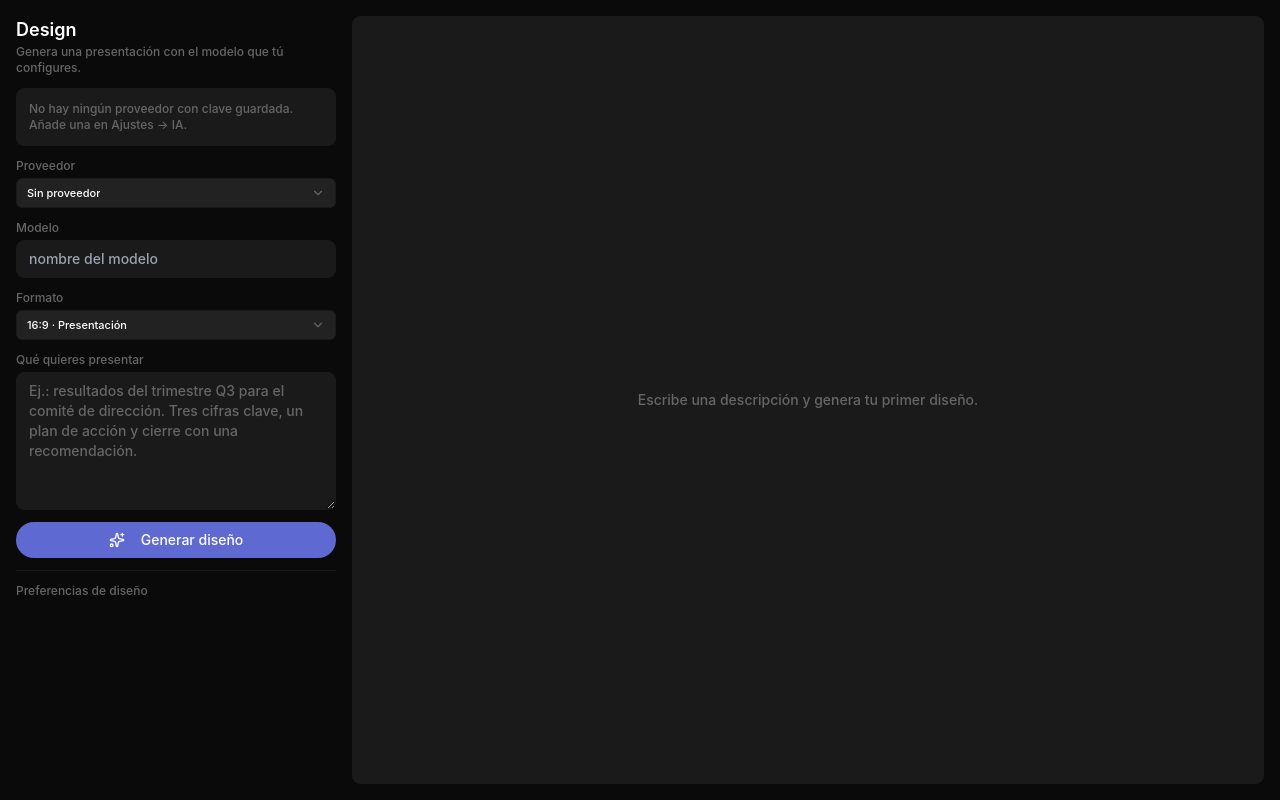
Test: DesignApp › muestra el error del backend sin perder el prompt
The width and height of the screenshot is (1280, 800).
Replace the text in the text box with placeholder "Ej.: resultados" with "x" at {"x": 176, "y": 441}, box left=16, top=372, right=336, bottom=510
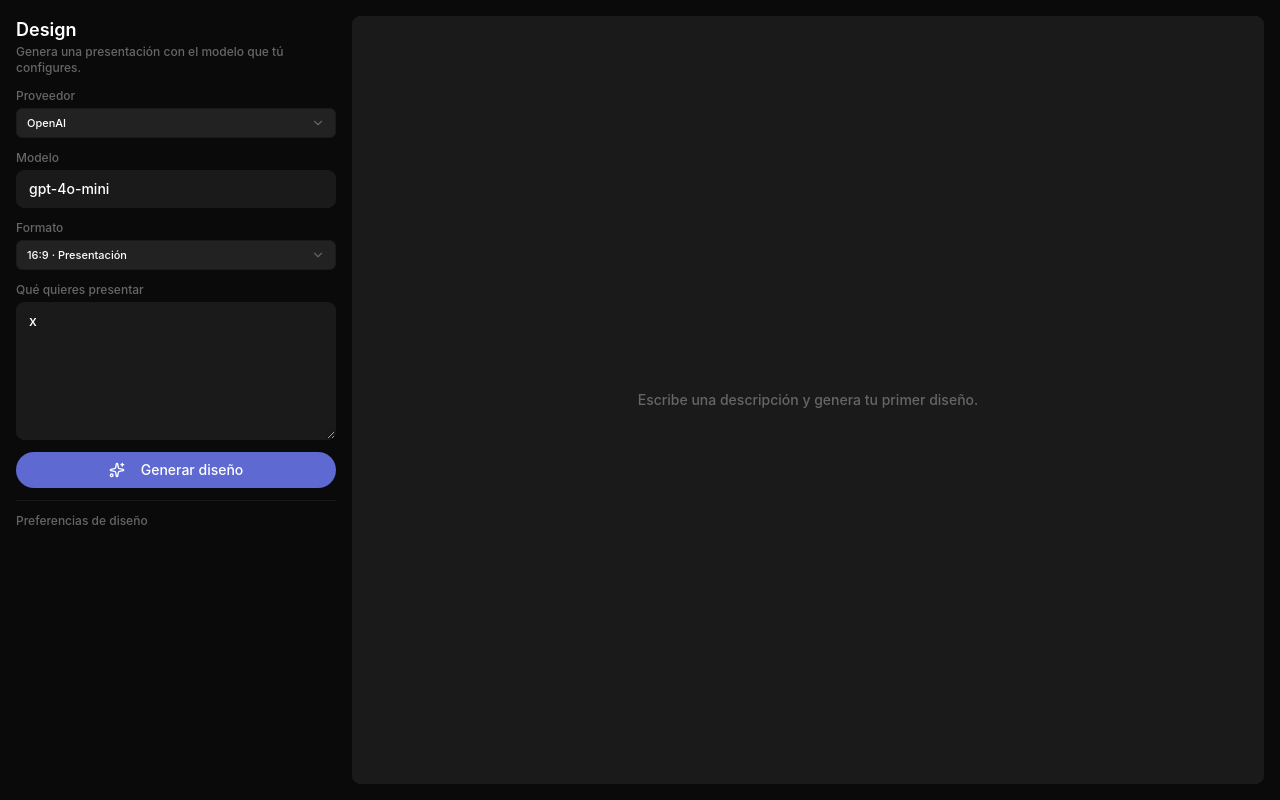
Click the button "Generar diseño".
click(176, 470)  # box left=16, top=452, right=336, bottom=488
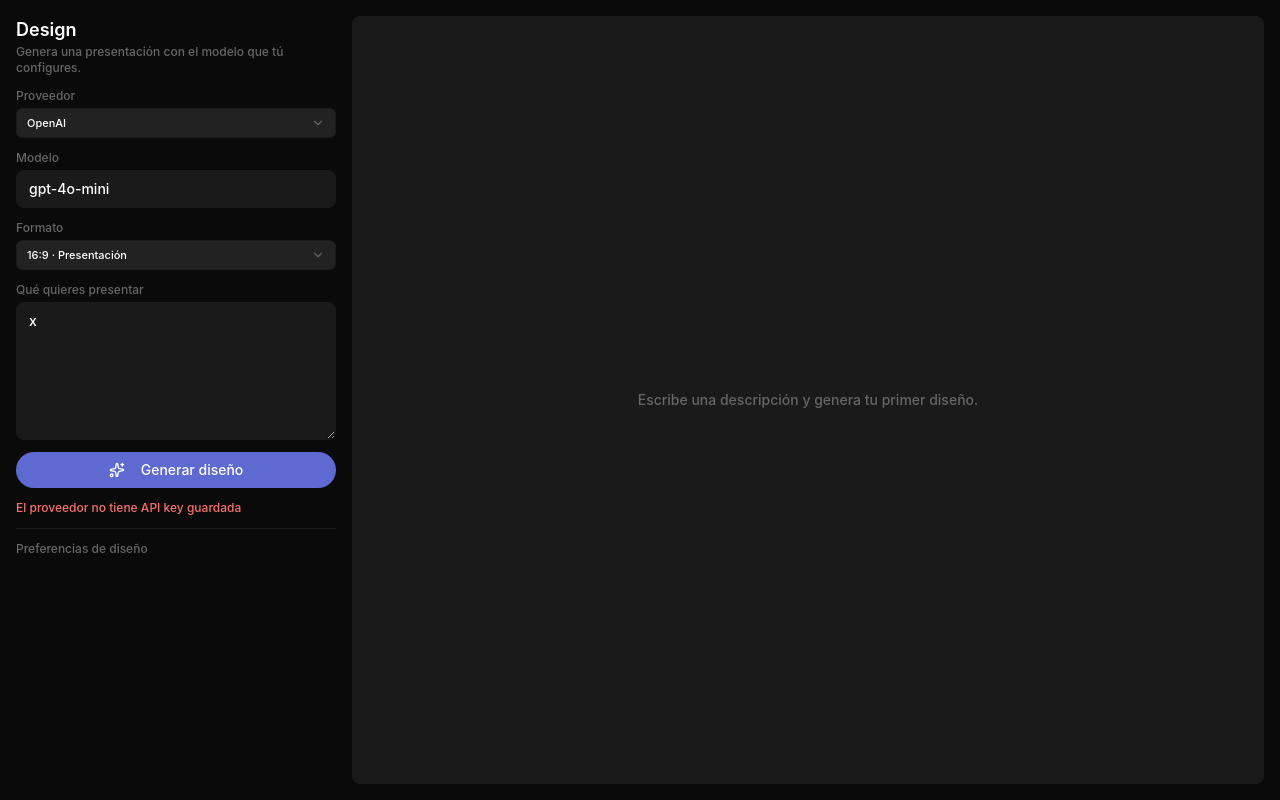
expect the text "El proveedor no tiene API key guardada" is shown: met, box left=16, top=500, right=241, bottom=515
